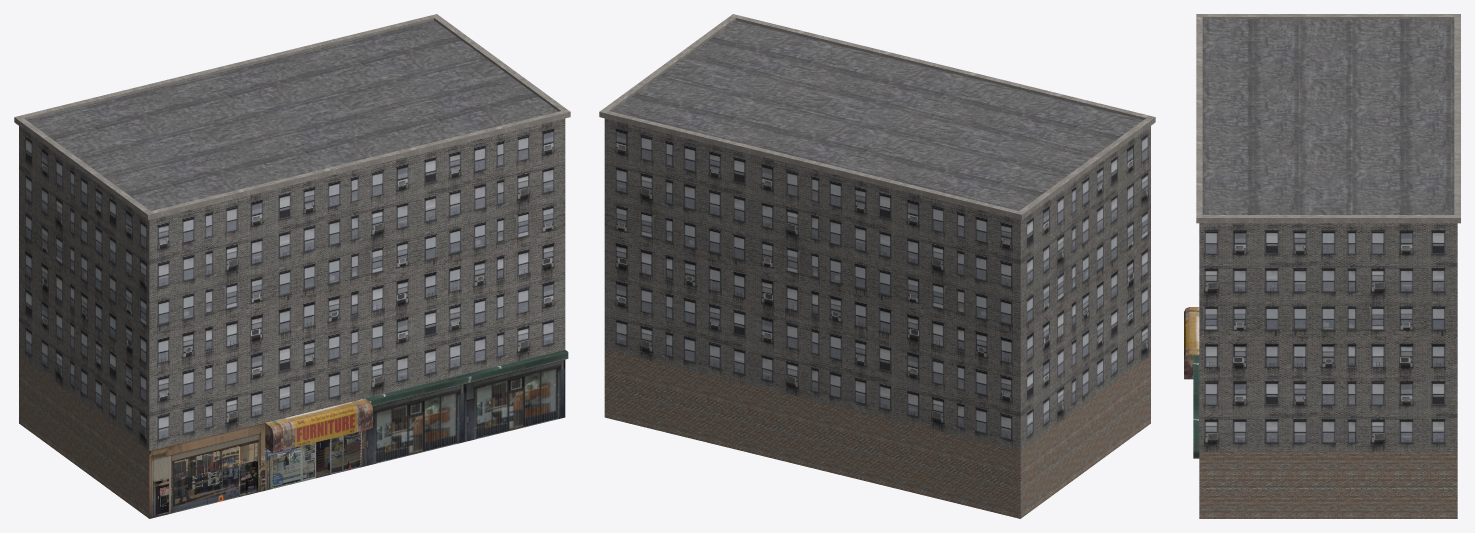
Rendered from building-01.glb.
3 views of the same model, side by side, from view 1: azimuth 30°, elevation 25°; view 2: azimuth 150°, elevation 25°; view 3: azimuth 270°, elevation 25° (orthographic).
Parts seen in each view (by area): view 1: Building_01; view 2: Building_01; view 3: Building_01.
Part boxes in pixels (x1,y1,x2,y2): Building_01: [14, 14, 570, 518]; Building_01: [599, 14, 1155, 518]; Building_01: [1184, 14, 1460, 518].
Bounding box in the file's own units: 34.05 × 23.55 × 19.51.
7 materials, 7 textured.
